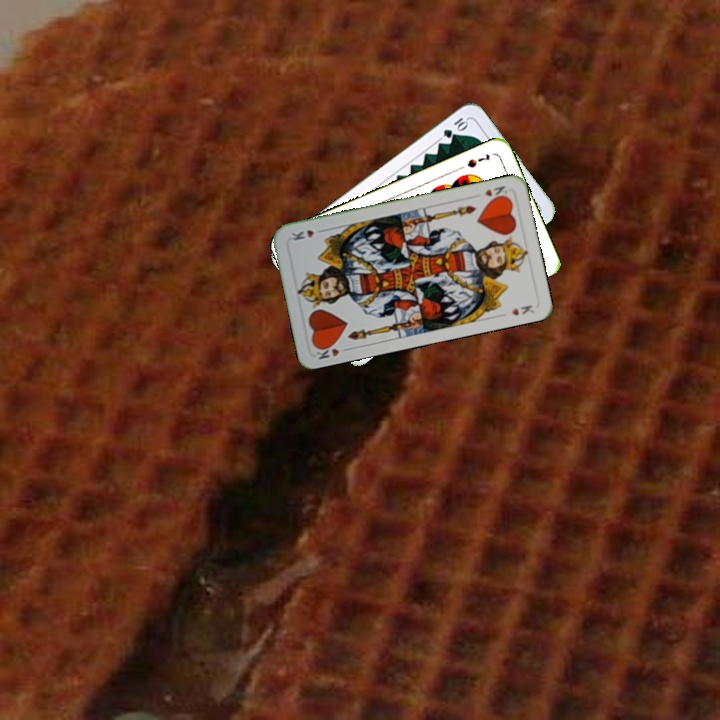G10: (439, 113, 471, 141)
HK: (311, 339, 352, 362), (480, 182, 510, 199)
S7: (463, 150, 493, 170)
